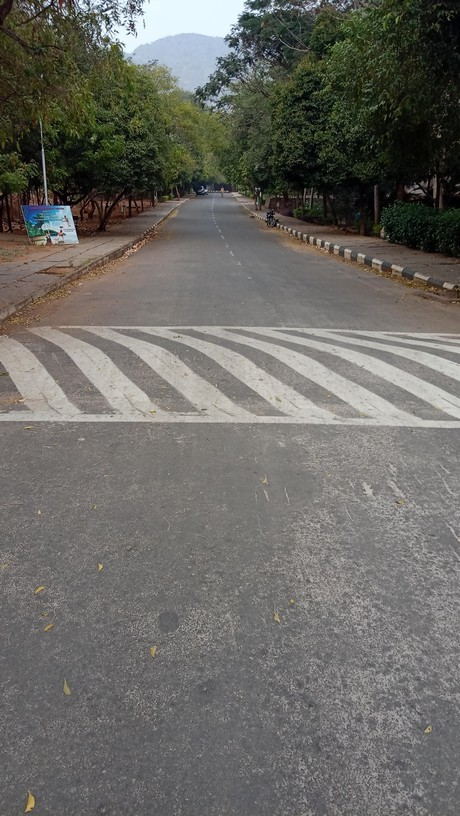bump: (1, 324, 460, 422)
